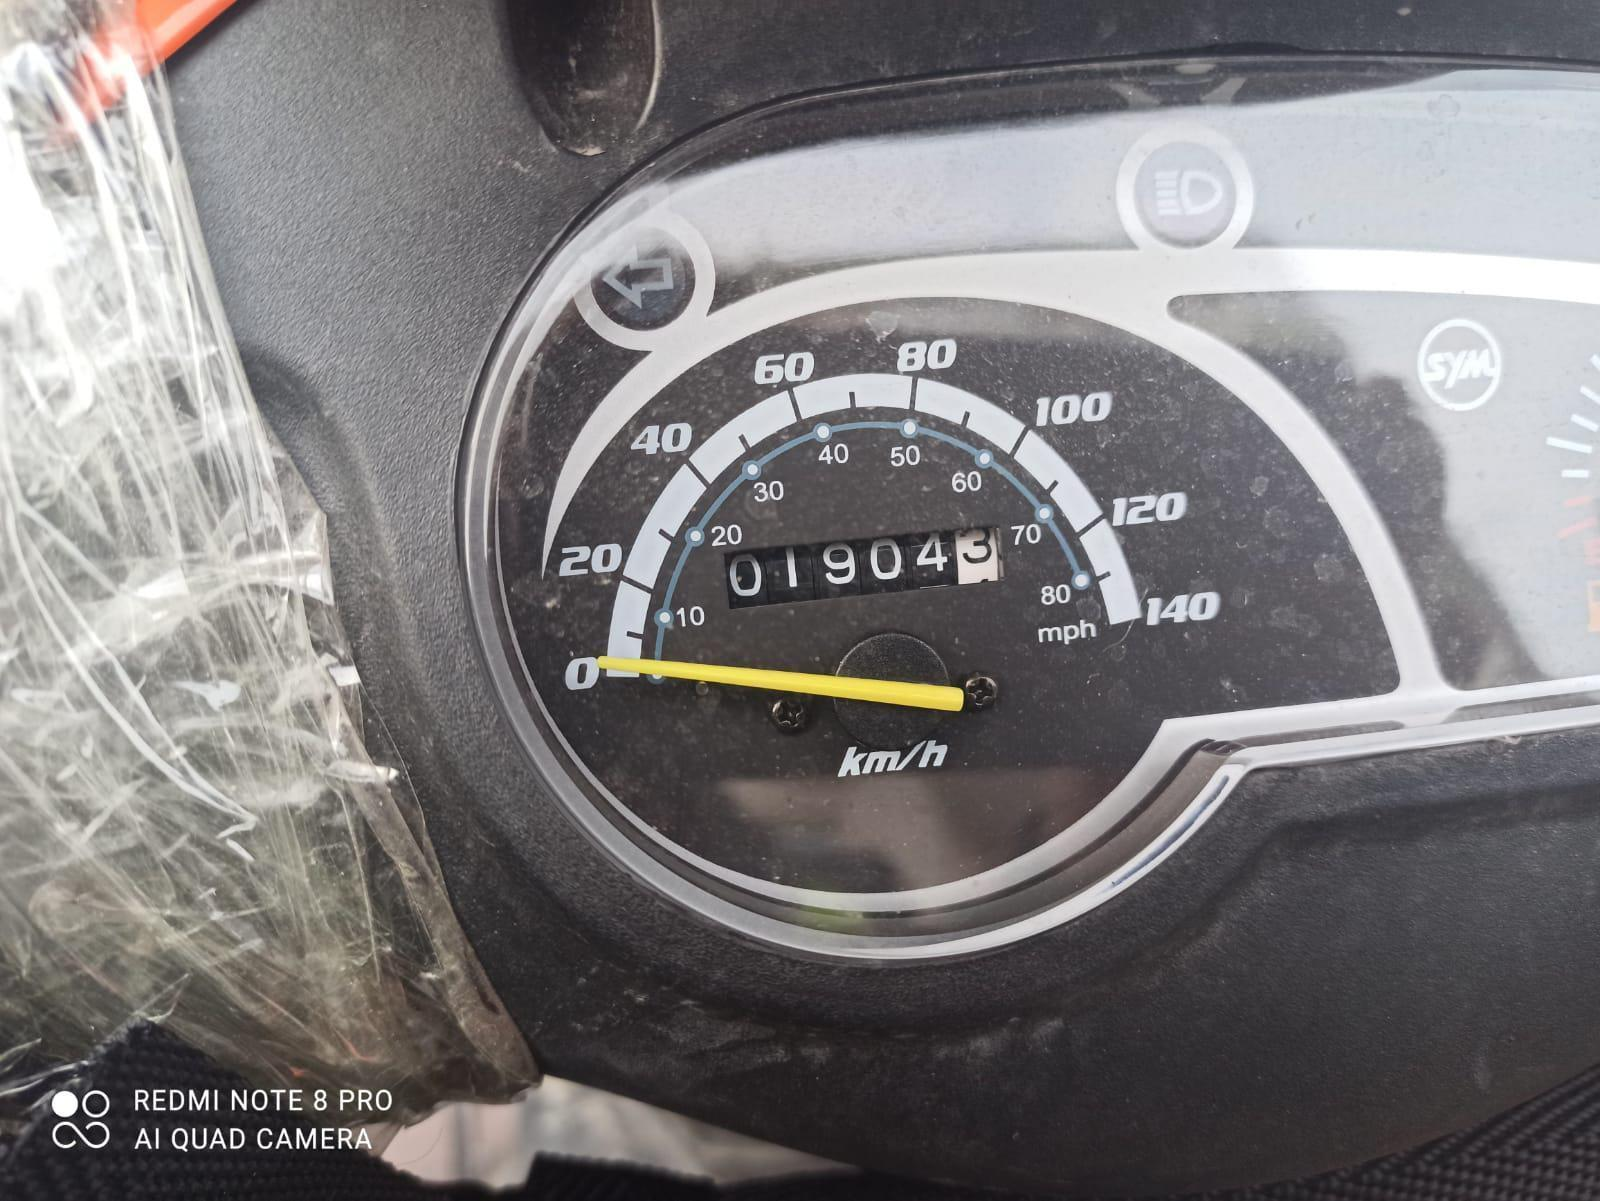0: (867, 532, 902, 584), (727, 551, 765, 598), (726, 520, 743, 548)
1: (779, 541, 805, 594)
3: (956, 522, 996, 566)
4: (917, 531, 950, 578)
9: (819, 537, 856, 589)
odometer: (721, 516, 1013, 616)
